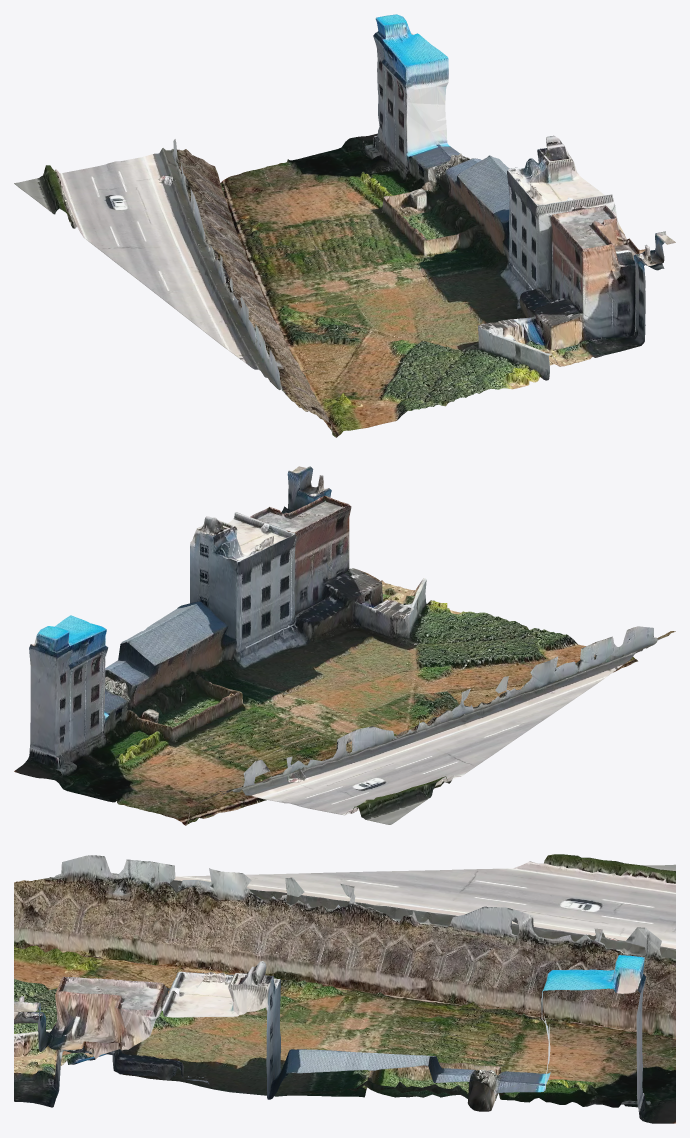
Rendered from BlockYY_L19_58.glb.
The picture shows the model from 3 angles, top to bottom: view 1: azimuth 30°, elevation 25°; view 2: azimuth 150°, elevation 25°; view 3: azimuth 270°, elevation 25°; orthographic projection. The views are drawn at different scales.
Visible parts, largest first — view 1: rtc; view 2: rtc; view 3: rtc.
Part boxes in pixels (bbox=[...]): rtc: bbox=[14, 14, 675, 437]; rtc: bbox=[14, 466, 675, 825]; rtc: bbox=[14, 854, 675, 1123].
Size of the model in its own units: 55.93 by 20.79 by 73.27.
4 materials, 4 textured.
